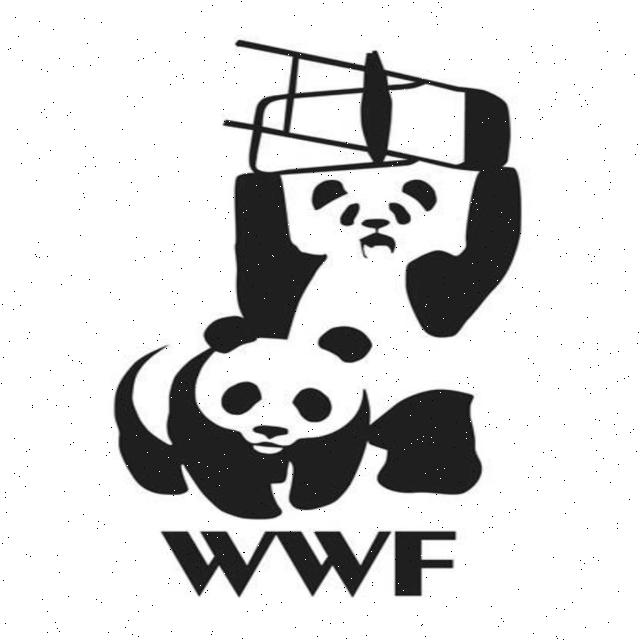panda: (232, 166, 525, 495), (114, 310, 369, 518)
